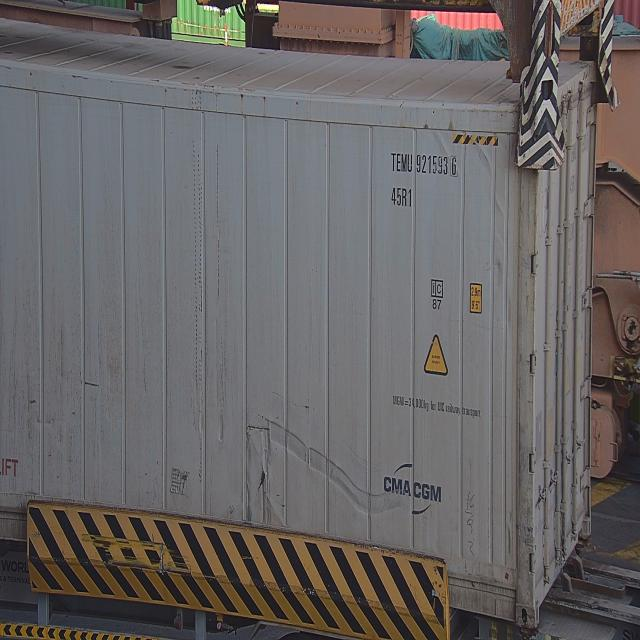dent: (241, 403, 413, 511)
